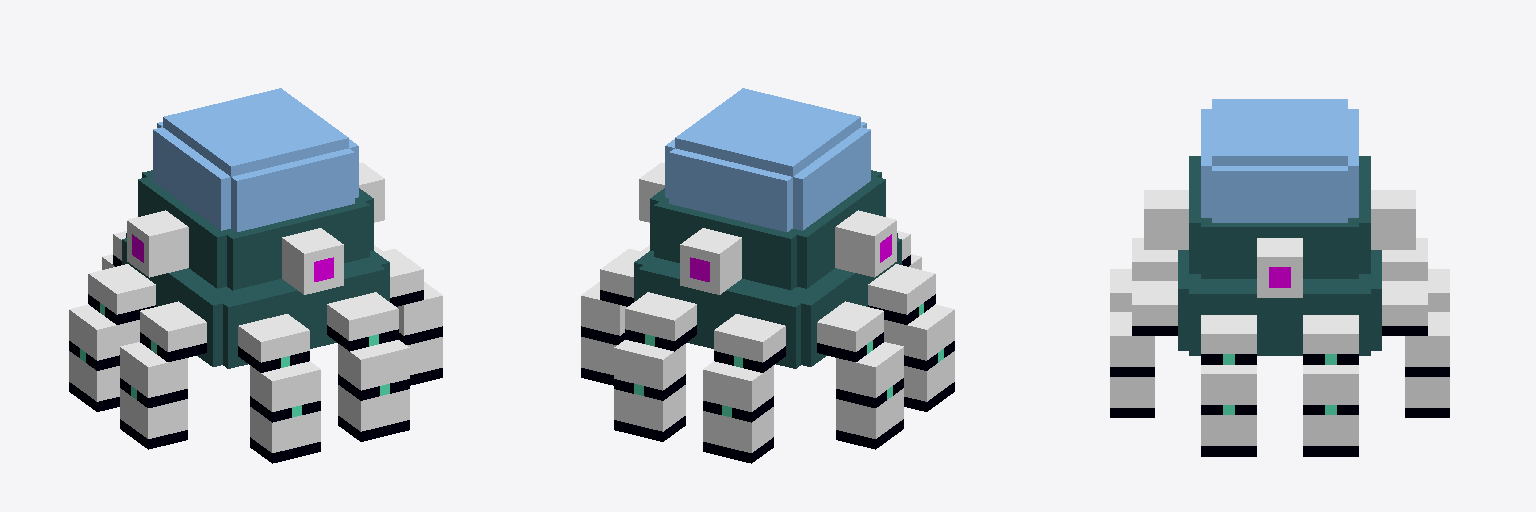
The picture shows the model from 3 angles: view 1: azimuth 30°, elevation 25°; view 2: azimuth 150°, elevation 25°; view 3: azimuth 270°, elevation 25°; orthographic projection.
Visible parts, largest first — view 1: object 1; view 2: object 1; view 3: object 1.
Part boxes in pixels (bbox=[...]): object 1: bbox=[69, 88, 442, 463]; object 1: bbox=[581, 88, 954, 463]; object 1: bbox=[1110, 99, 1449, 456].
Bounding box in the file's own units: 3 × 2.5 × 3.
Materials: 1 (1 with a texture image).